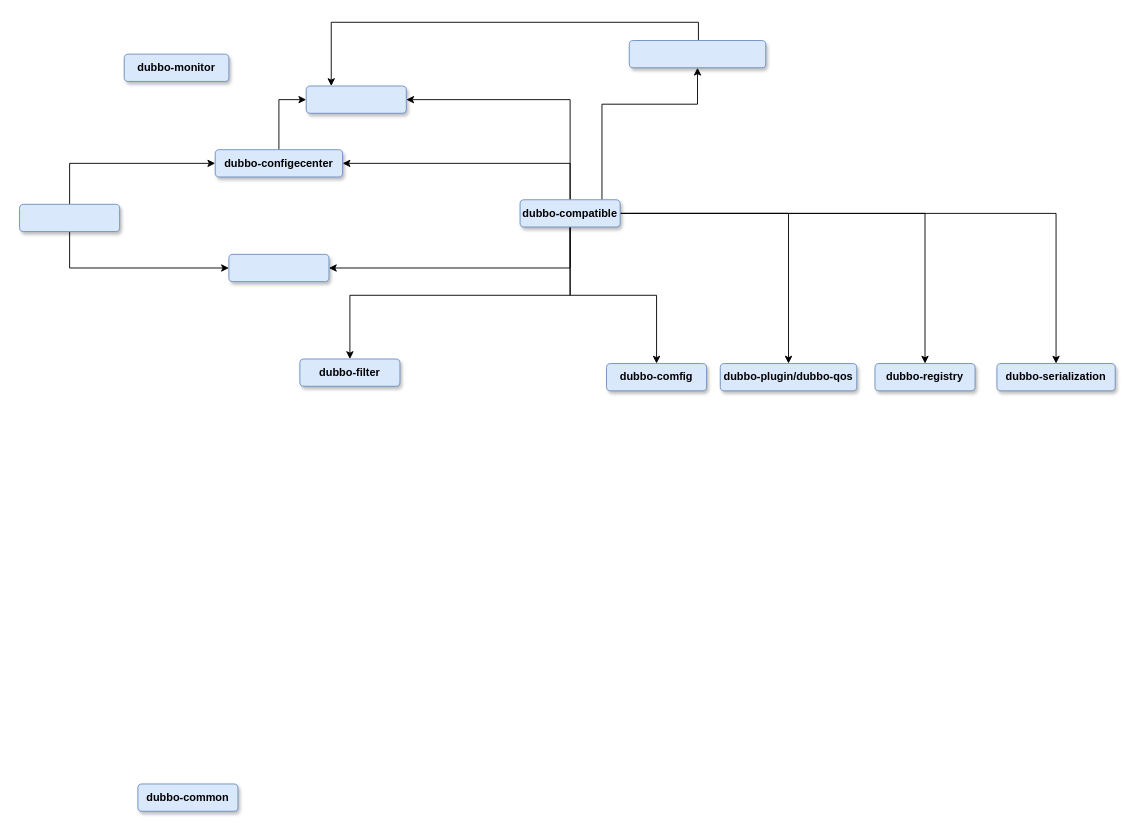
Image size: 1137x834. Some labels were removed from this diagram. The shapes that lost their labels are listed below. From the top down, each one's centre as x and y in pixels, then its label:
At (698,55): "dubbo-medadata-report".
At (357,100): "dubbo-remoting".
At (70,219): "dubbo-cluster".
At (279,269): "dubbo-rpc".
